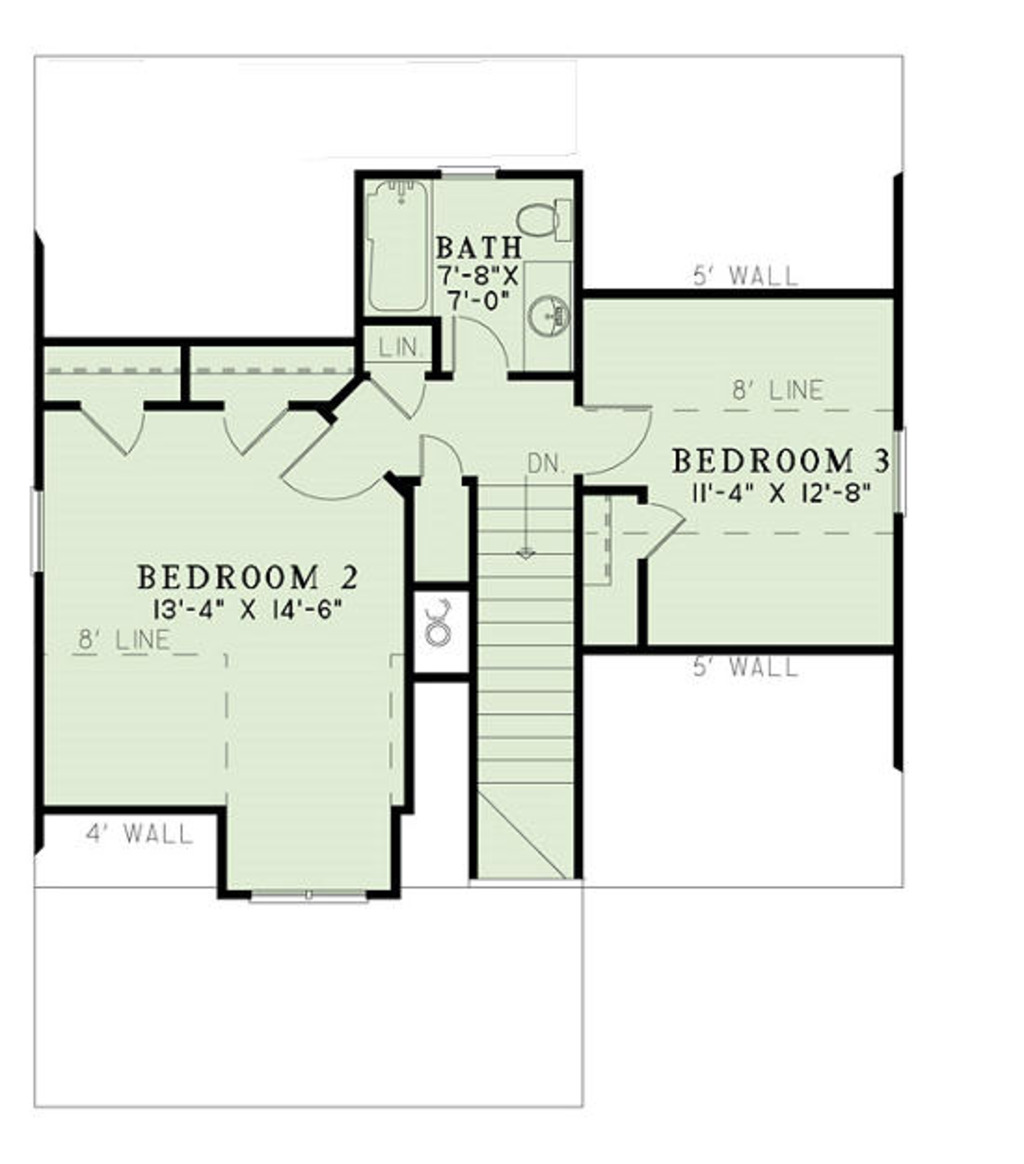door: (275, 415, 398, 508), (575, 394, 665, 472), (365, 365, 451, 430), (451, 315, 520, 381), (625, 488, 689, 559), (80, 394, 151, 450), (225, 406, 285, 459), (409, 435, 473, 483)
large_sink: (505, 198, 591, 258)
small_sink: (515, 279, 575, 372)
stairs: (480, 477, 584, 888)
tub: (362, 168, 444, 323)
window: (236, 875, 382, 910), (25, 494, 78, 586), (878, 425, 902, 514), (433, 161, 496, 181)
